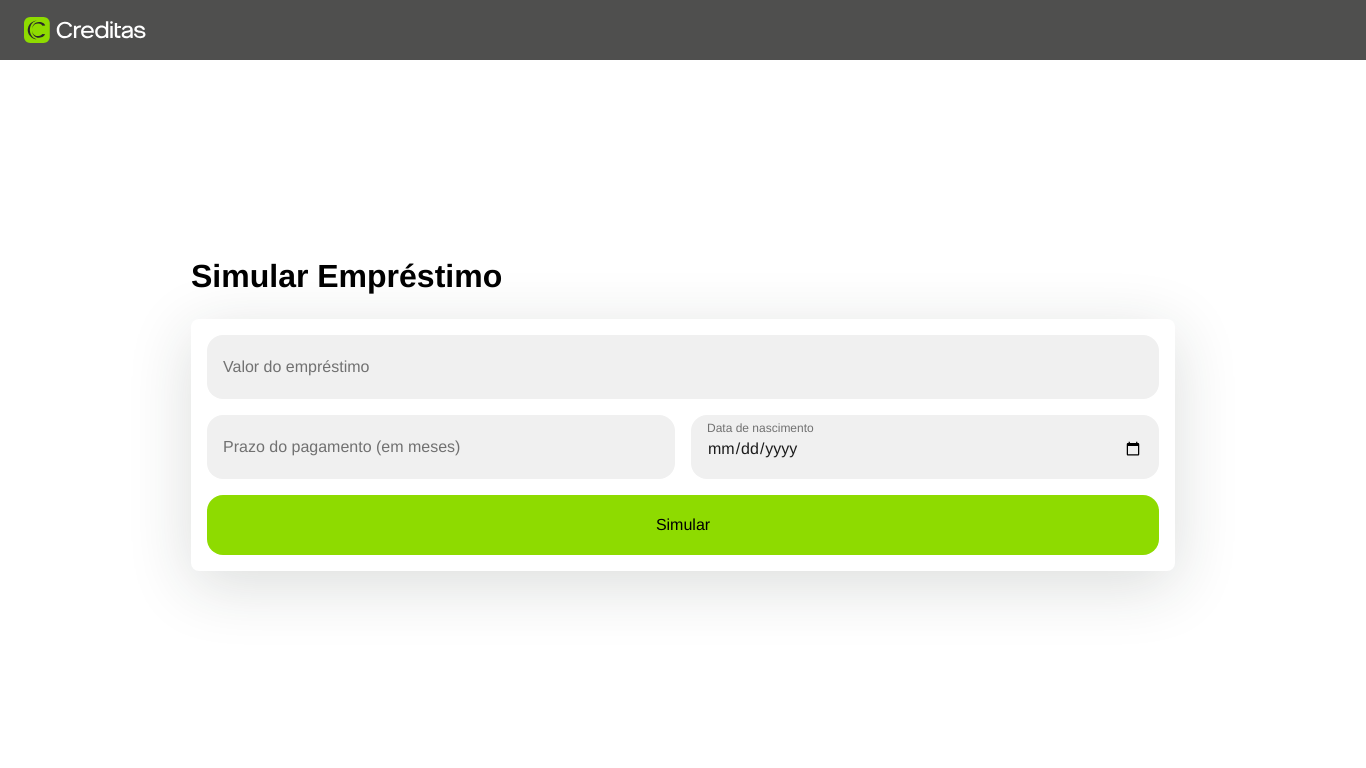
it: Home › should show error if the user is under 18
The width and height of the screenshot is (1366, 768).
In the date field labelled "Data de nascimento": (925, 448) x1=707 y1=436 x2=1143 y2=460, type "2024-12-10"
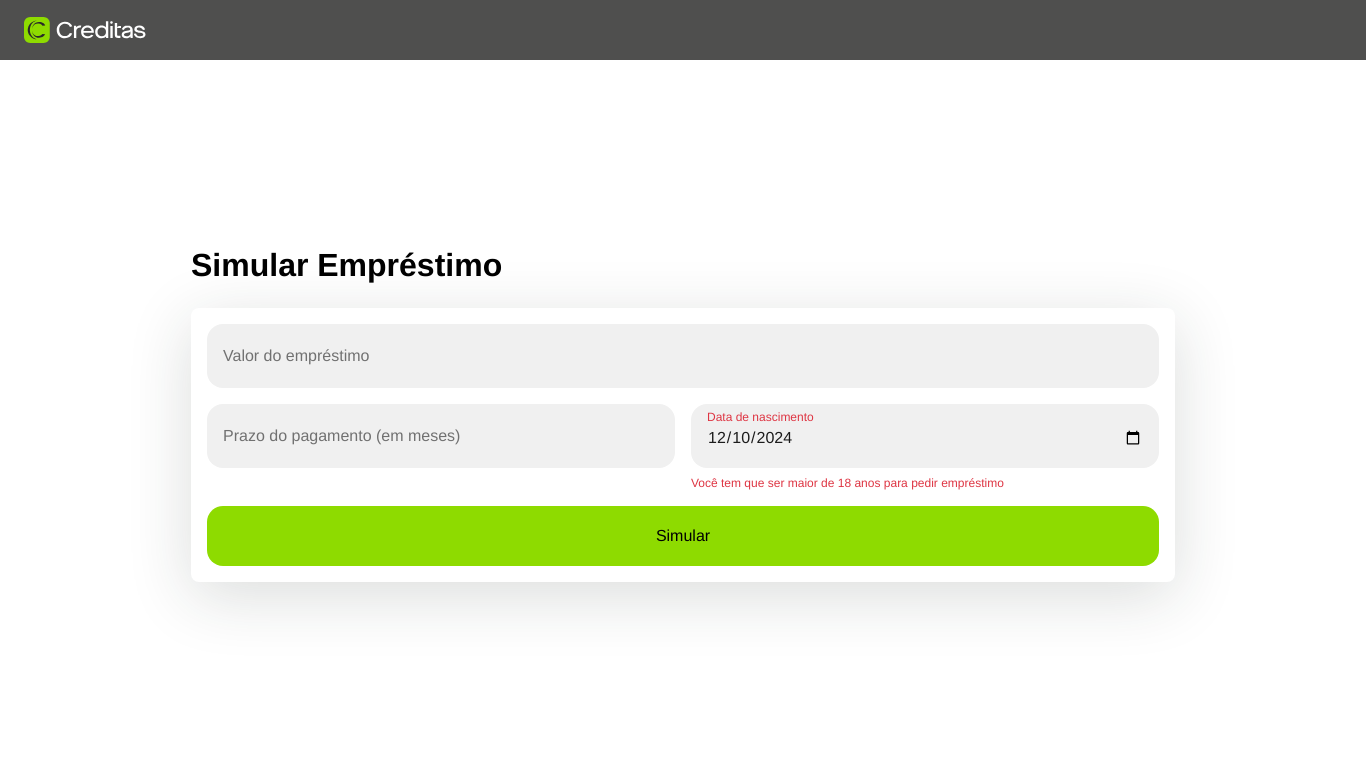
expect the text "Você tem que ser maior de 18 anos para pedir empréstimo" is shown: met, box x1=691 y1=476 x2=1004 y2=490
